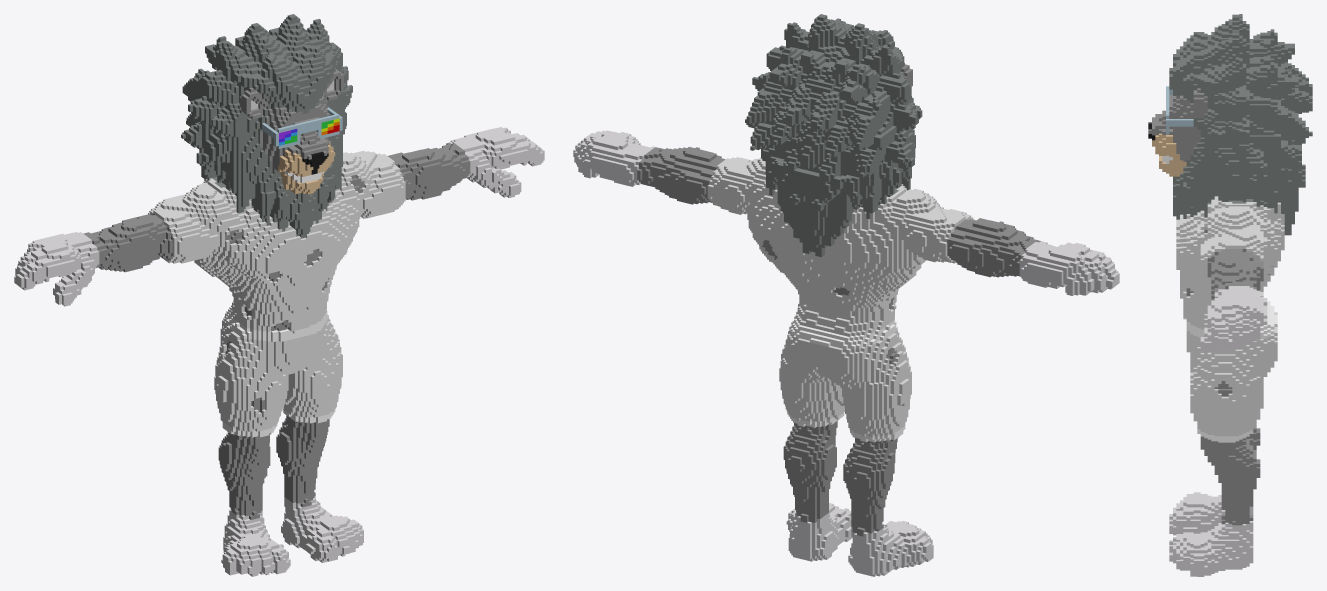
Rendered from 188-Bso4jdbK.glb.
3 views of the same model, side by side, from view 1: azimuth 30°, elevation 25°; view 2: azimuth 150°, elevation 25°; view 3: azimuth 270°, elevation 25° (orthographic). The views are drawn at different scales.
Visible parts, largest first — view 1: big_smile; view 2: big_smile; view 3: big_smile.
Boxes of the visible parts, x1=… form: big_smile: x1=14, y1=14, x2=544, y2=576; big_smile: x1=573, y1=14, x2=1119, y2=576; big_smile: x1=1148, y1=14, x2=1312, y2=576.
Bounding box in the file's own units: 17.2 × 16.5 × 4.7.
Materials: 5 (5 with a texture image).
